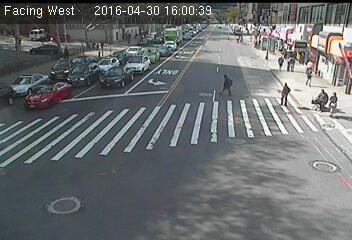neg: (18, 74, 39, 101), (47, 27, 61, 45), (38, 88, 49, 103), (10, 32, 21, 47), (84, 23, 94, 36), (104, 28, 114, 41)
pos: (275, 78, 298, 109), (219, 73, 236, 96), (272, 51, 288, 71), (301, 63, 316, 83), (61, 45, 73, 60)
